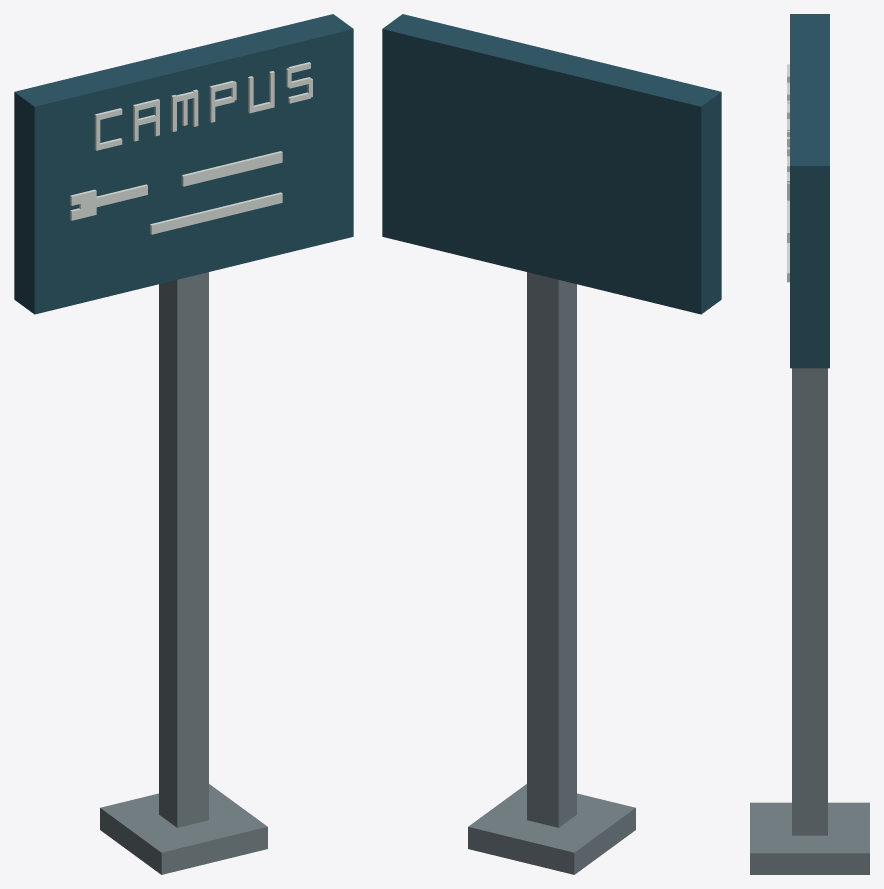
The model's file is prop_sign_campus_001.glb.
3 views of the same model, side by side, from view 1: azimuth 30°, elevation 25°; view 2: azimuth 150°, elevation 25°; view 3: azimuth 270°, elevation 25° (orthographic). The views are drawn at different scales.
Visible parts, largest first — view 1: Panel, Pole, Foot, Route_Two, Route_One, Arrow_Shaft; view 2: Panel, Pole, Foot; view 3: Pole, Panel, Foot.
Part boxes in pixels (x1=…): Panel: x1=14, y1=14, x2=353, y2=314; Pole: x1=159, y1=272, x2=208, y2=827; Foot: x1=100, y1=784, x2=267, y2=874; Route_Two: x1=150, y1=192, x2=282, y2=234; Route_One: x1=181, y1=151, x2=282, y2=186; Arrow_Shaft: x1=79, y1=184, x2=147, y2=209; Panel: x1=382, y1=14, x2=721, y2=314; Pole: x1=527, y1=272, x2=576, y2=827; Foot: x1=468, y1=784, x2=635, y2=874; Pole: x1=792, y1=368, x2=827, y2=835; Panel: x1=790, y1=14, x2=829, y2=368; Foot: x1=750, y1=802, x2=869, y2=874.
Size of the model in its own units: 0.9 by 2.1 by 0.3.
